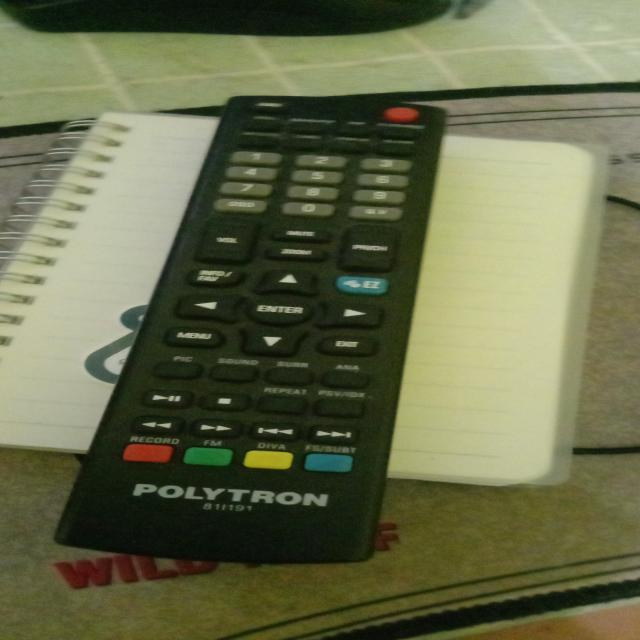remote: (36, 89, 472, 563)
